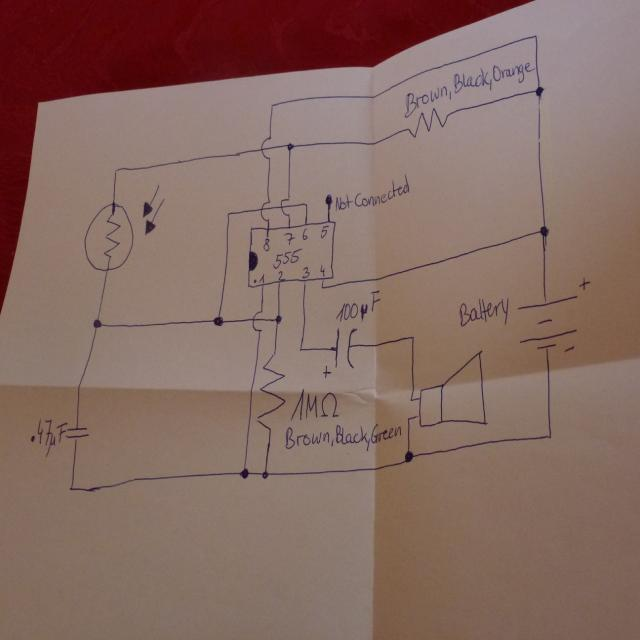capacitor: (322, 325, 358, 379), (63, 424, 89, 441)
crossover: (259, 134, 275, 160), (252, 307, 267, 332), (258, 198, 272, 223), (279, 195, 292, 217)
junction: (89, 311, 105, 332), (236, 462, 252, 482), (532, 80, 546, 100), (537, 222, 551, 239), (258, 466, 272, 481), (402, 447, 414, 464), (212, 313, 223, 327), (66, 481, 77, 494), (285, 139, 294, 153), (545, 429, 554, 441), (274, 312, 282, 324), (112, 164, 120, 176), (268, 99, 276, 110), (408, 332, 416, 341), (532, 31, 539, 40), (298, 345, 304, 354), (320, 283, 326, 291), (225, 210, 231, 217), (302, 200, 308, 207), (408, 395, 414, 402), (405, 415, 411, 421)
resistor: (82, 182, 166, 272), (257, 347, 284, 438), (403, 106, 454, 139)
source: (514, 274, 590, 354)
terminal: (323, 194, 333, 208)
text: (402, 56, 535, 118), (282, 416, 400, 450), (334, 172, 410, 214), (291, 389, 345, 427), (456, 296, 509, 328), (335, 288, 381, 322), (32, 418, 62, 458), (274, 248, 301, 268), (284, 228, 295, 244), (254, 272, 265, 284), (301, 264, 310, 278), (262, 237, 270, 250), (320, 225, 328, 237), (318, 264, 326, 276), (301, 226, 308, 238), (276, 270, 284, 280)
